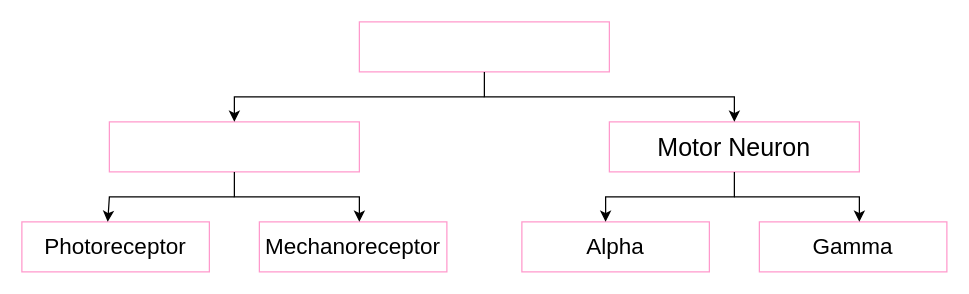
This 969x294 diagram has some shape labels left out. Here are the shapes that lost their labels. From the top down, the centre of each, then its label:
At point (483, 46): "General Neuron".
At point (233, 146): "Sensory Neuron".
